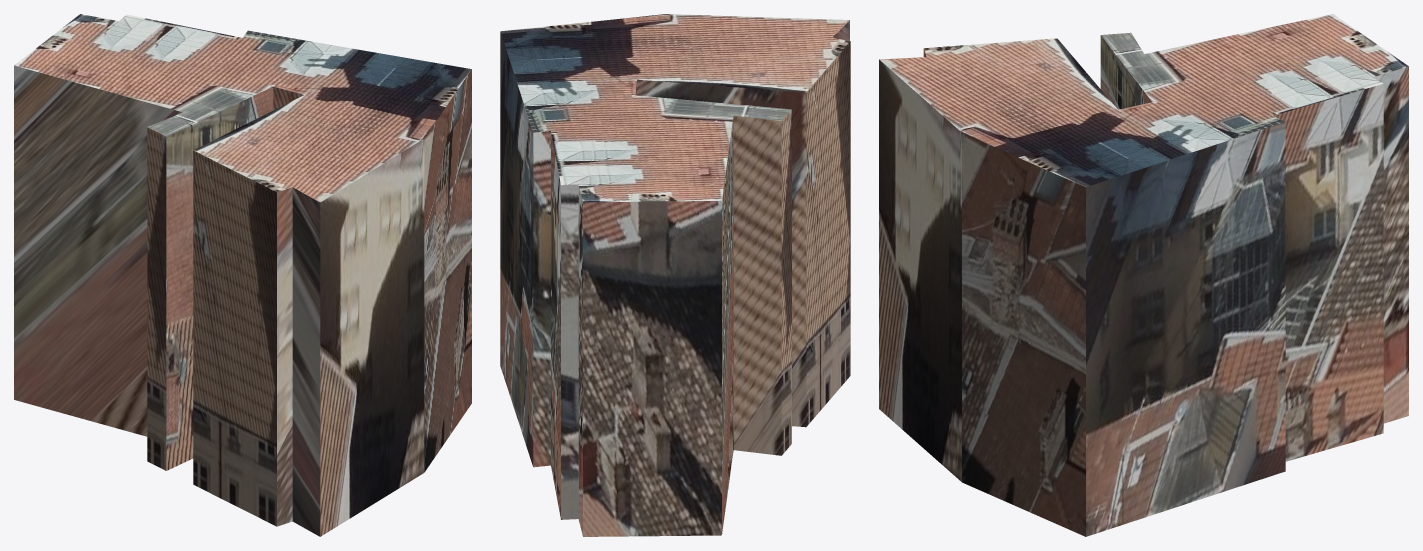
The picture shows the model from 3 angles, left to right: view 1: azimuth 30°, elevation 25°; view 2: azimuth 150°, elevation 25°; view 3: azimuth 270°, elevation 25°; orthographic projection. The views are drawn at different scales.
Visible parts, largest first — view 1: Z_UP; view 2: Z_UP; view 3: Z_UP.
Boxes of the visible parts, x1,y1,x2,y2 form: Z_UP: (14,14,471,536); Z_UP: (500,14,850,536); Z_UP: (879,14,1408,536).
Size of the model in its own units: 16.02 by 15.07 by 20.69.
Materials: 2 (1 with a texture image).
